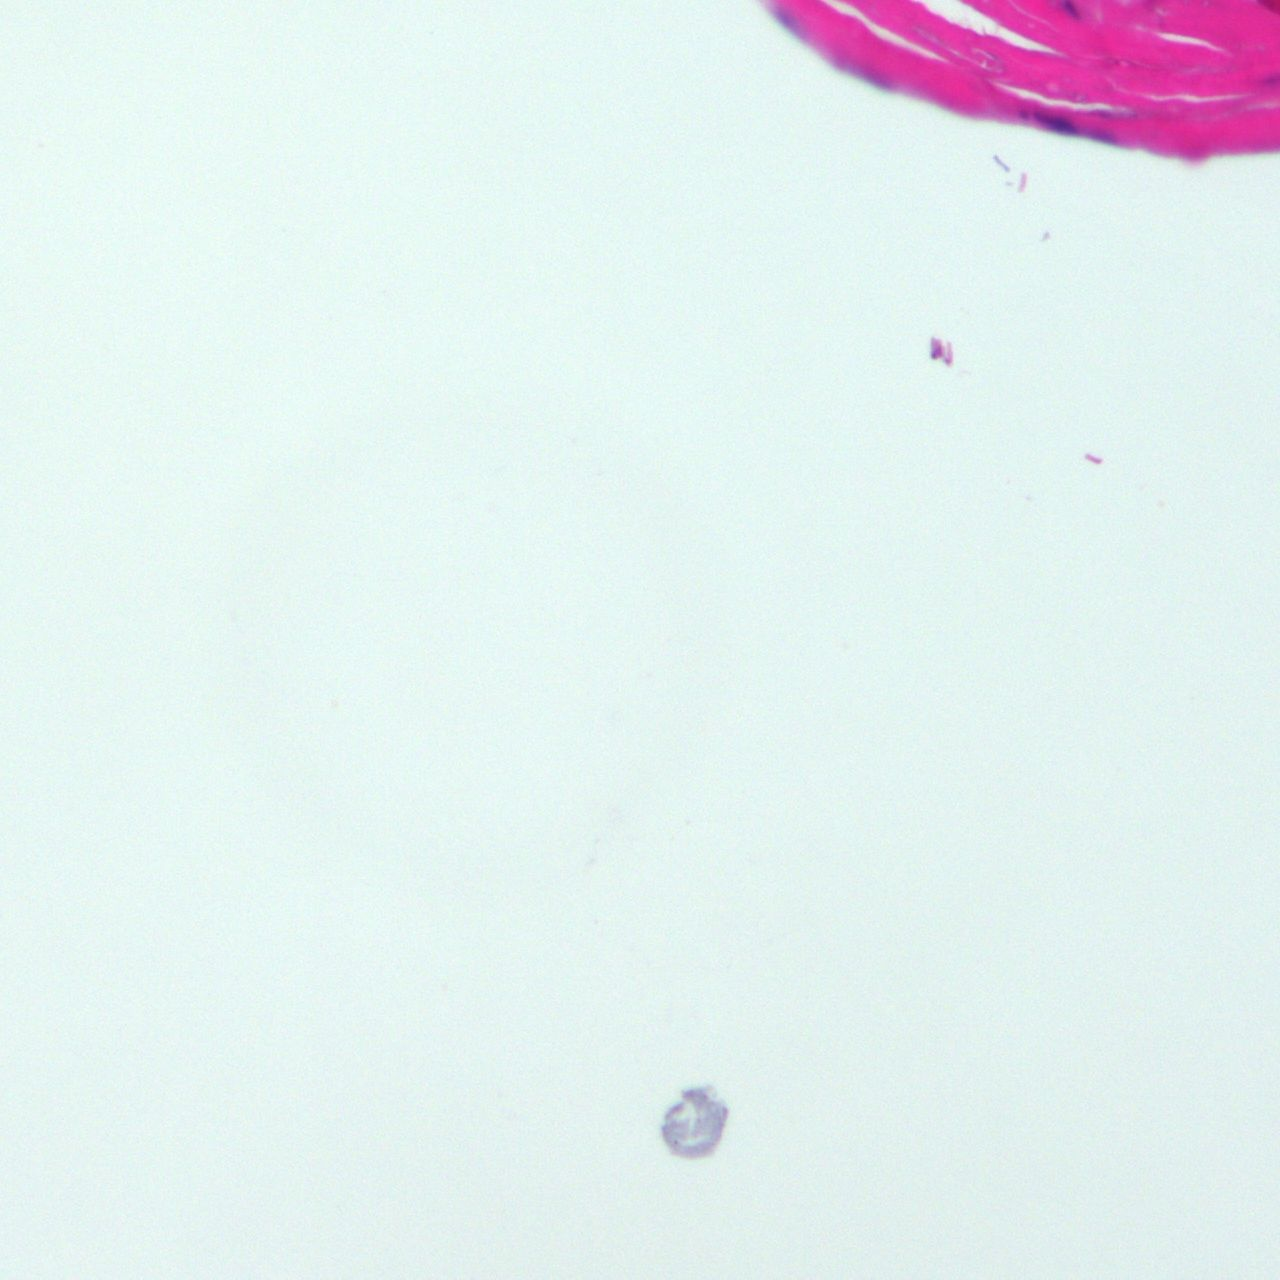nucleus-HE: (1027, 105, 1083, 139)
